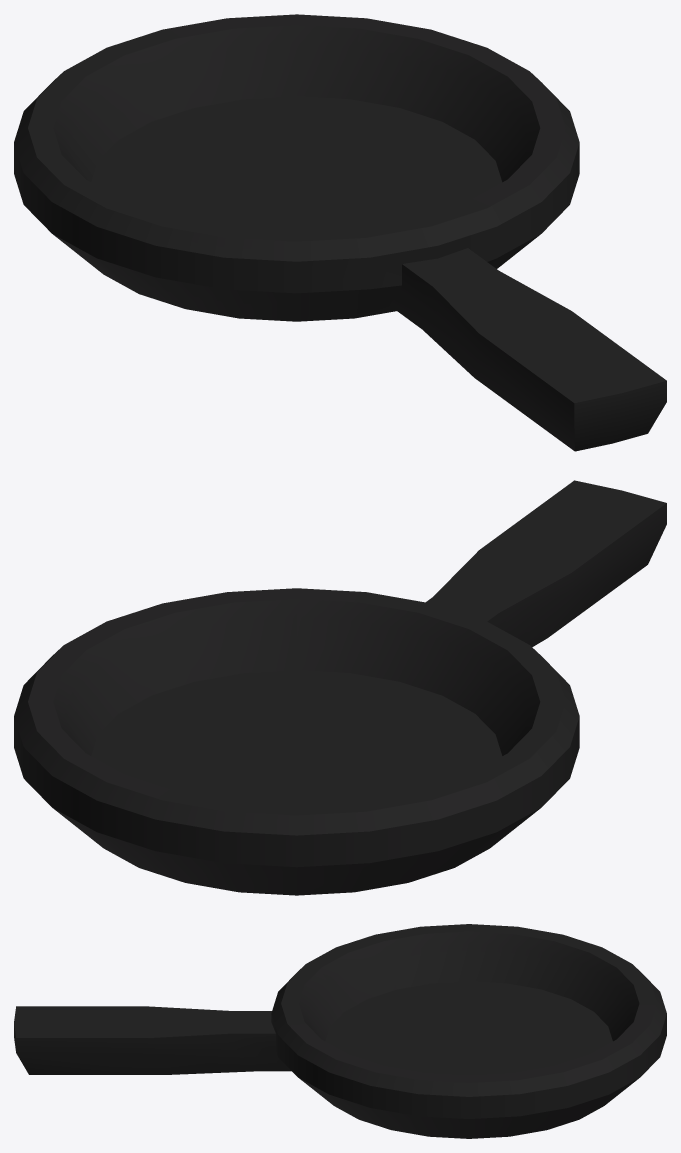
File: quaternius-sushi-restaurant-environment-pan.glb
The picture shows the model from 3 angles, top to bottom: view 1: azimuth 30°, elevation 25°; view 2: azimuth 150°, elevation 25°; view 3: azimuth 270°, elevation 25°; orthographic projection. The views are drawn at different scales.
Parts seen in each view (by area): view 1: Environment_Pan; view 2: Environment_Pan; view 3: Environment_Pan.
Part boxes in pixels (x1=…): Environment_Pan: x1=14, y1=14, x2=666, y2=451; Environment_Pan: x1=14, y1=480, x2=666, y2=895; Environment_Pan: x1=14, y1=924, x2=666, y2=1138.
Size of the model in its own units: 1.25 by 0.2426 by 2.07.
1 material, 1 textured.
